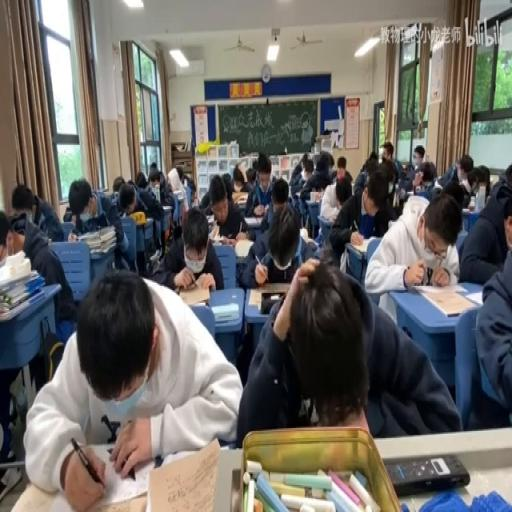calculator: (82, 445, 155, 508), (0, 263, 46, 320), (410, 283, 479, 317), (246, 283, 293, 310), (178, 283, 211, 304), (210, 301, 238, 323), (210, 227, 238, 249), (349, 234, 375, 254), (234, 238, 254, 258), (58, 219, 76, 240), (90, 244, 115, 258), (235, 194, 249, 208), (172, 186, 186, 200), (244, 214, 262, 224), (148, 248, 160, 263), (152, 184, 160, 204), (299, 226, 309, 240), (206, 214, 215, 228), (312, 189, 322, 201), (460, 205, 474, 212), (94, 185, 106, 192), (143, 216, 152, 225), (434, 179, 442, 189), (162, 204, 171, 210), (406, 189, 412, 194)
paper: (26, 266, 240, 506), (239, 259, 456, 448), (330, 165, 394, 265), (458, 165, 510, 283), (64, 176, 126, 274), (152, 204, 221, 292), (238, 202, 306, 290), (11, 184, 66, 243), (288, 152, 318, 225), (142, 164, 172, 230), (438, 154, 475, 204), (378, 154, 404, 209), (196, 169, 226, 212), (0, 206, 22, 262), (408, 158, 437, 199), (354, 154, 374, 188), (117, 183, 136, 215), (334, 154, 352, 184), (476, 165, 490, 199), (300, 238, 318, 263), (220, 171, 234, 199), (232, 165, 246, 192), (380, 140, 394, 164), (412, 145, 425, 168), (112, 175, 125, 192), (134, 171, 148, 186), (32, 192, 39, 222), (245, 166, 255, 186), (174, 165, 184, 185), (184, 174, 194, 194), (62, 206, 73, 222), (325, 152, 334, 171), (149, 168, 159, 185), (366, 150, 377, 164), (404, 162, 414, 174), (301, 155, 307, 171)
person: (384, 452, 470, 494)
